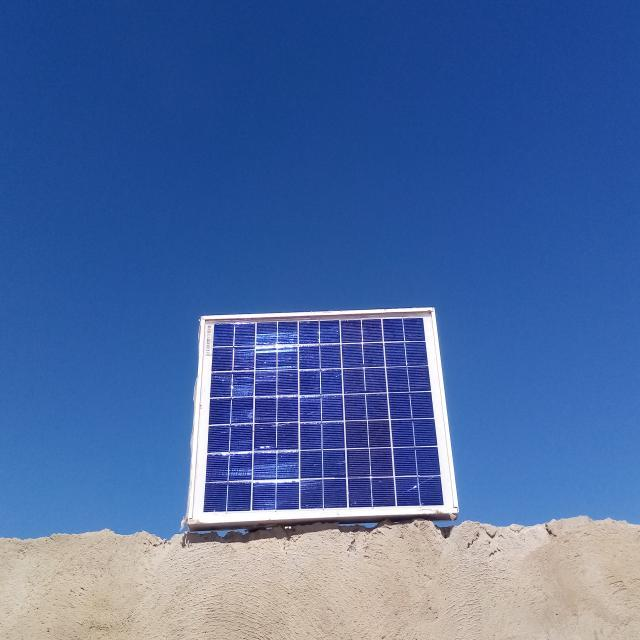no faulty: (189, 310, 455, 521)
